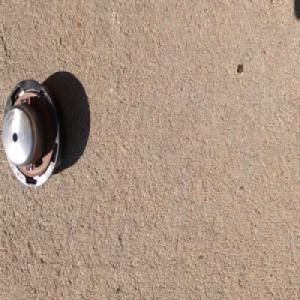FuelCap: (1, 77, 65, 192)
